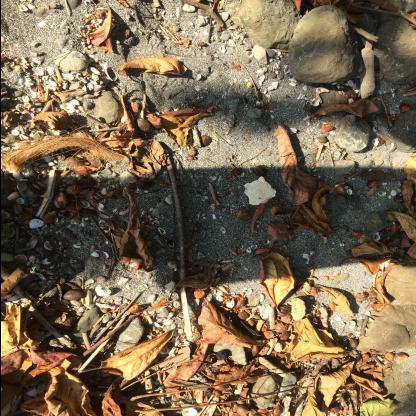kopuk: (243, 177, 277, 206)
